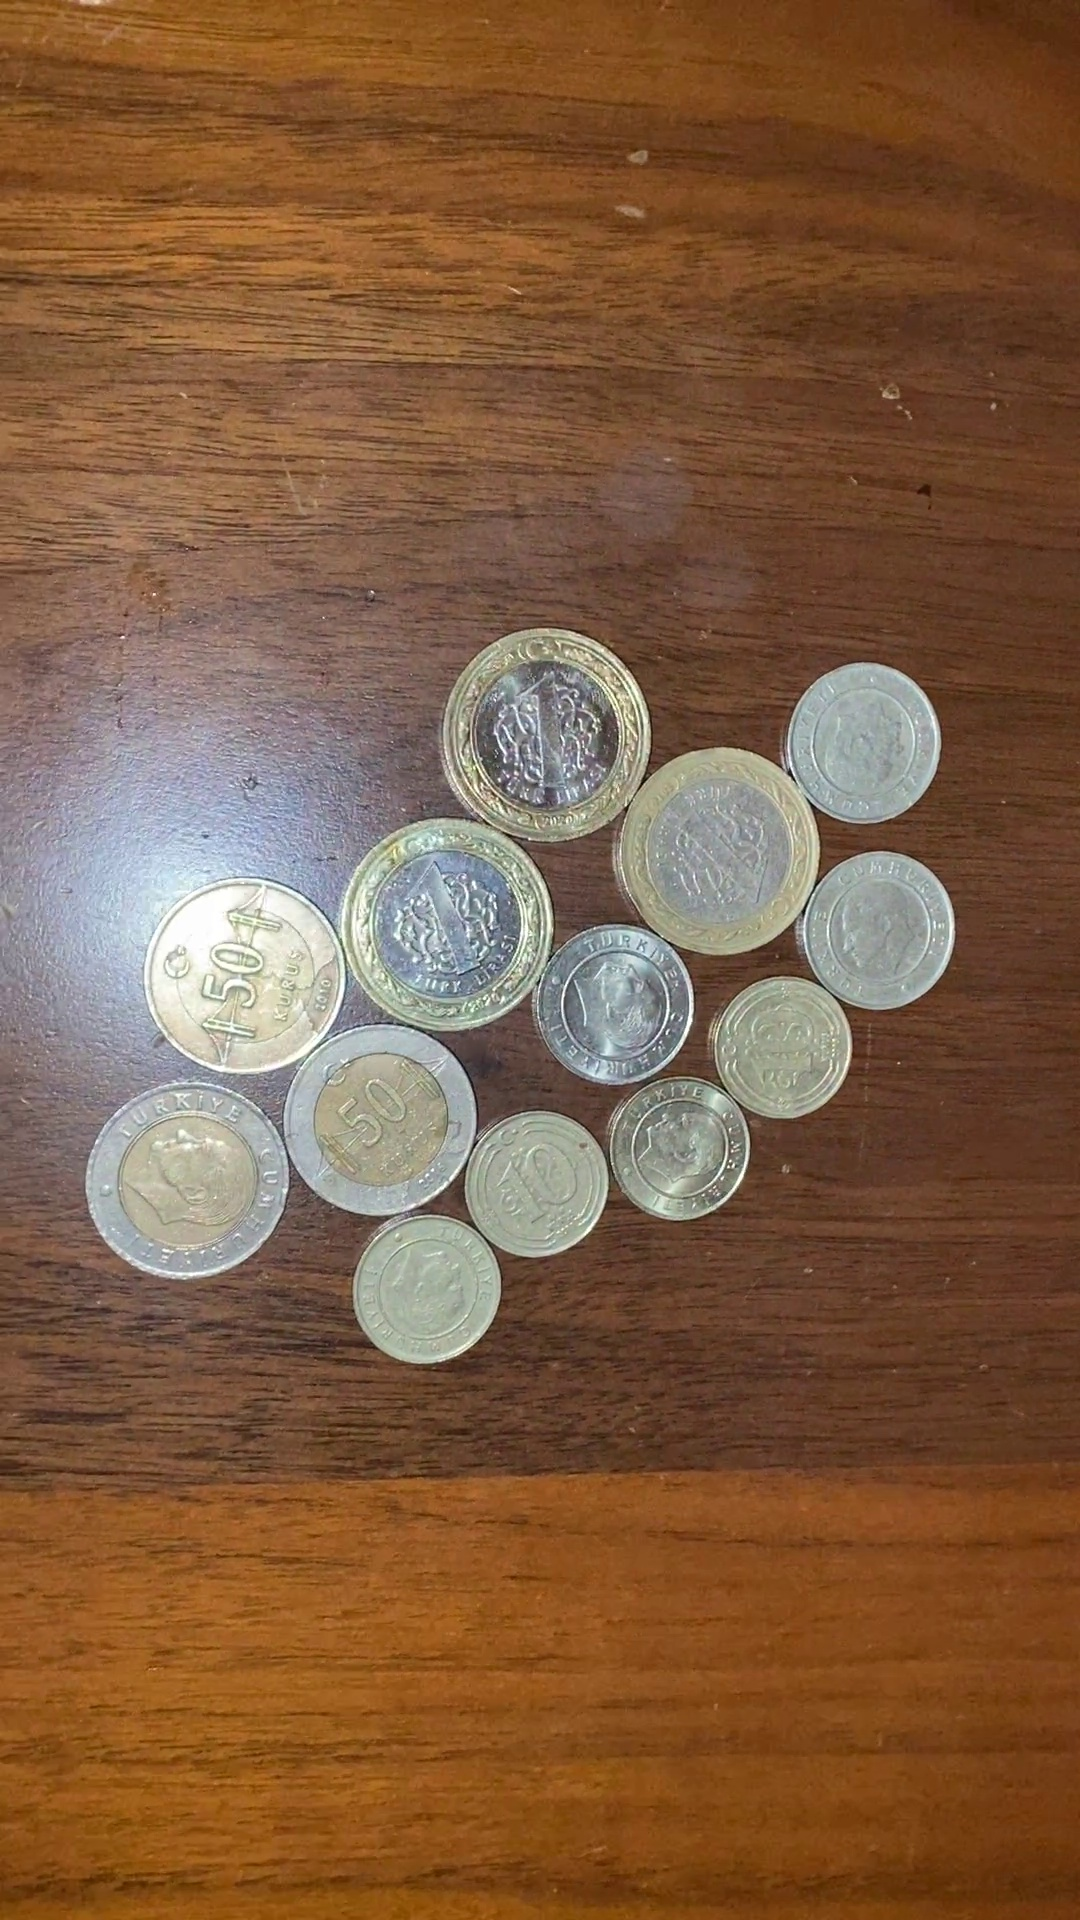1_tl: (607, 744, 831, 957), (335, 816, 560, 1026), (439, 624, 649, 840)
